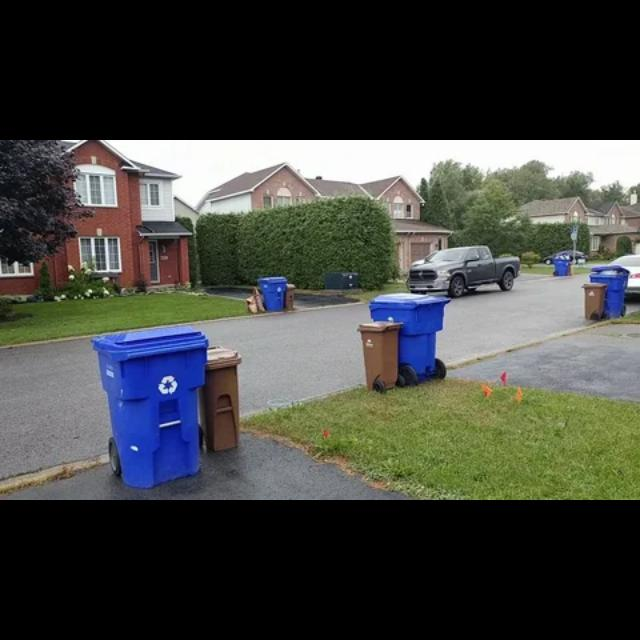Trash_Can_Closed: (92, 325, 209, 490), (369, 293, 451, 387), (197, 343, 243, 453), (358, 321, 406, 392), (589, 266, 630, 318), (258, 276, 288, 312), (582, 283, 607, 322), (286, 283, 296, 310)
